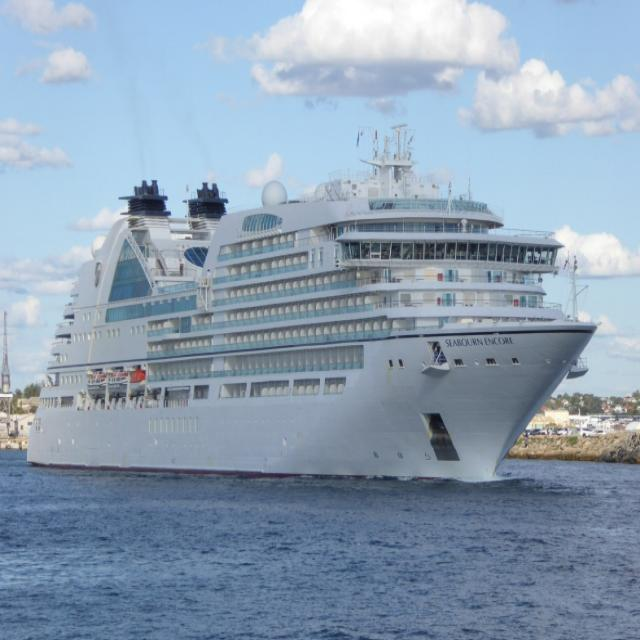cruises: (18, 112, 608, 497)
